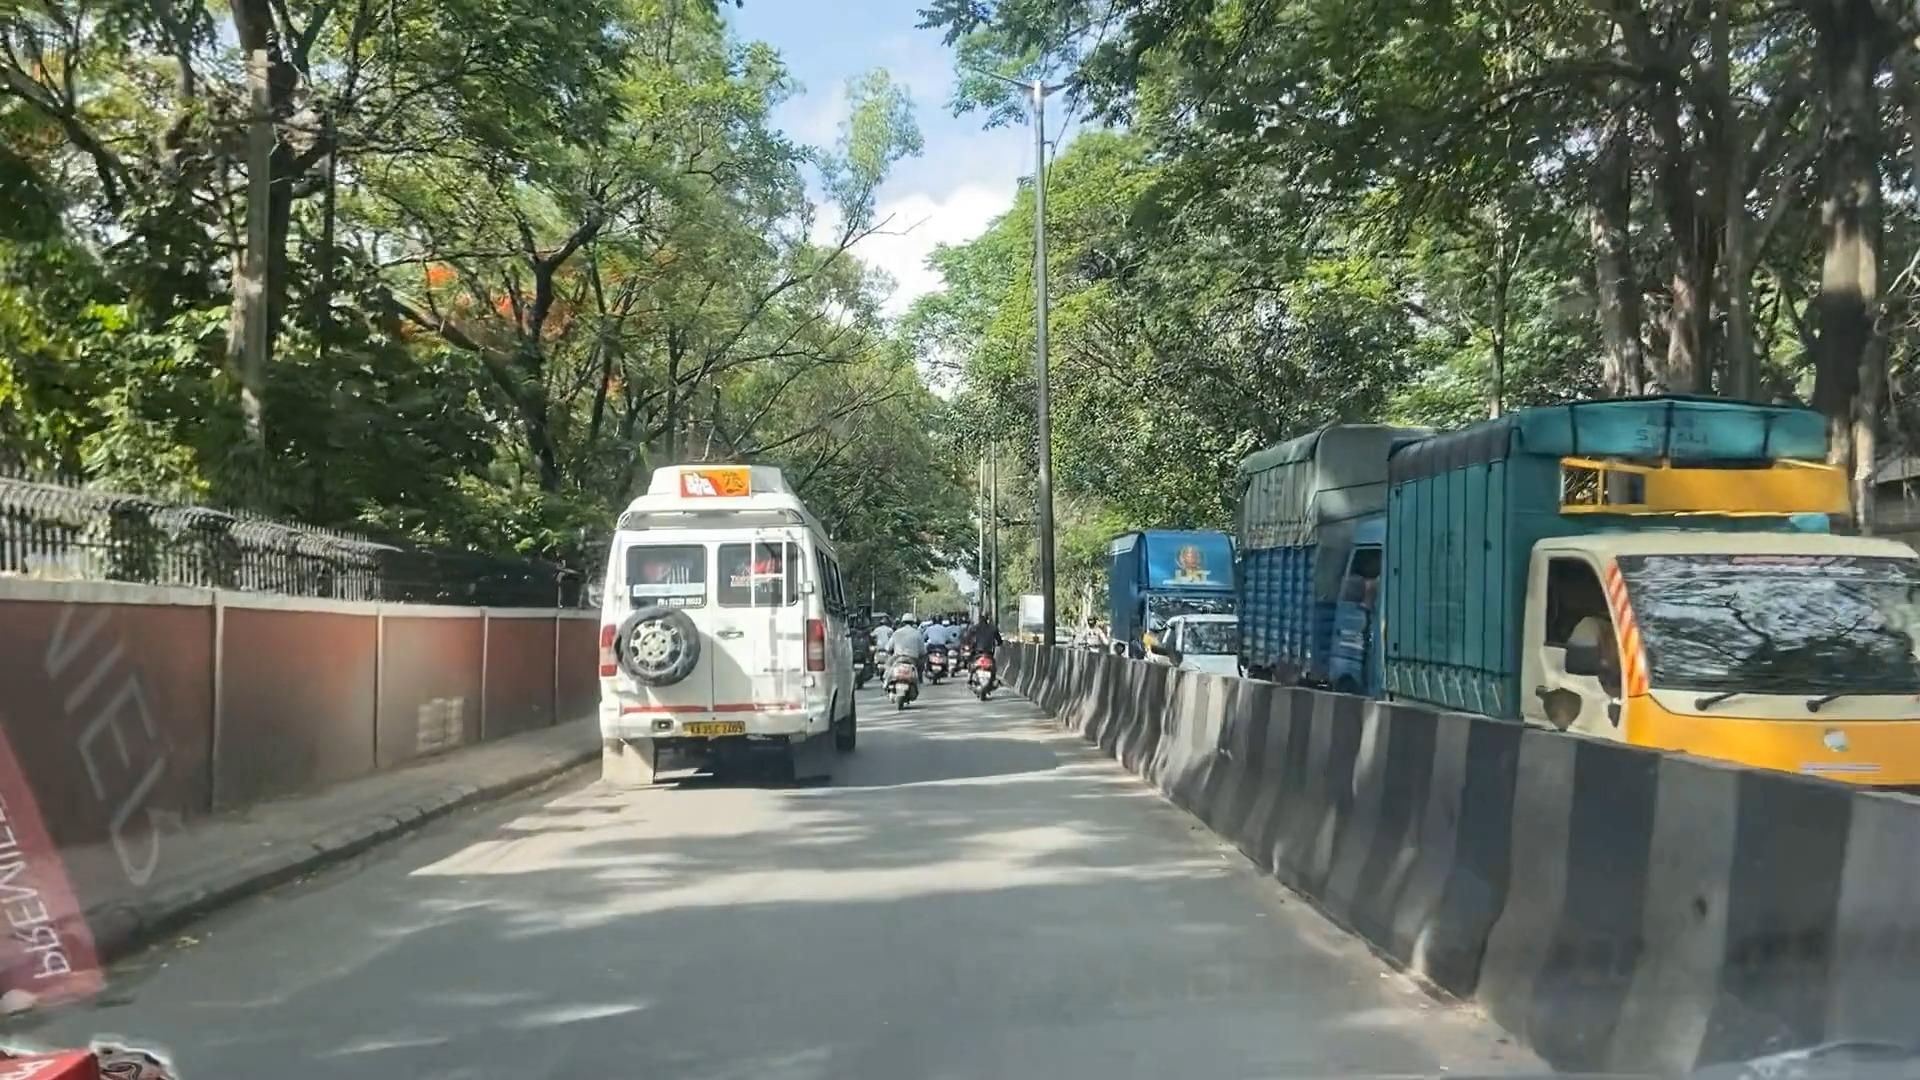HMV: (1379, 351, 1920, 796), (584, 431, 872, 832)
